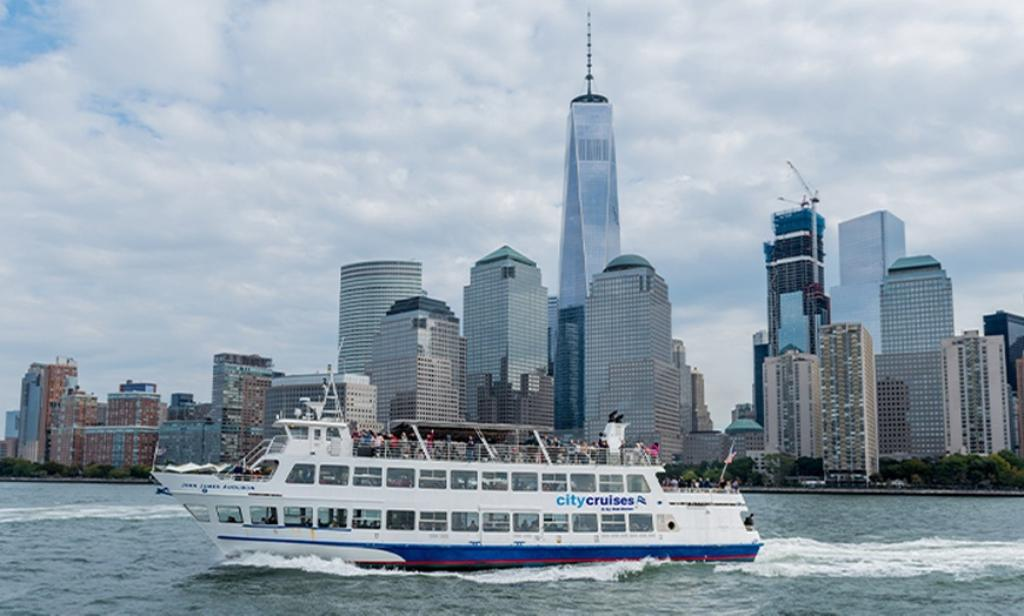PassengerShip: (142, 368, 768, 576)
